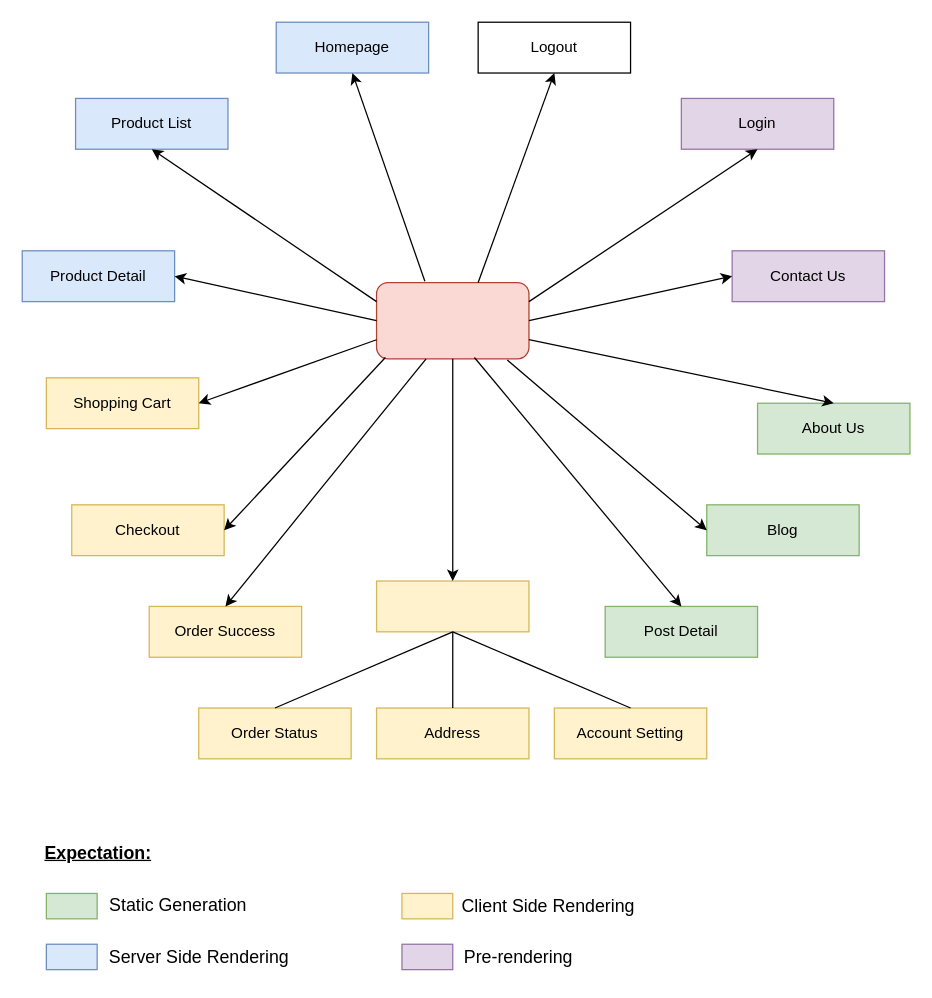
The diagram is 932 pixels wide and 998 high, and some of its shapes have lost their labels. Here are the shapes that lost their labels. From the top down, the box of each, then its label:
(375, 281, 529, 359): Main Site
(375, 580, 529, 632): Account
